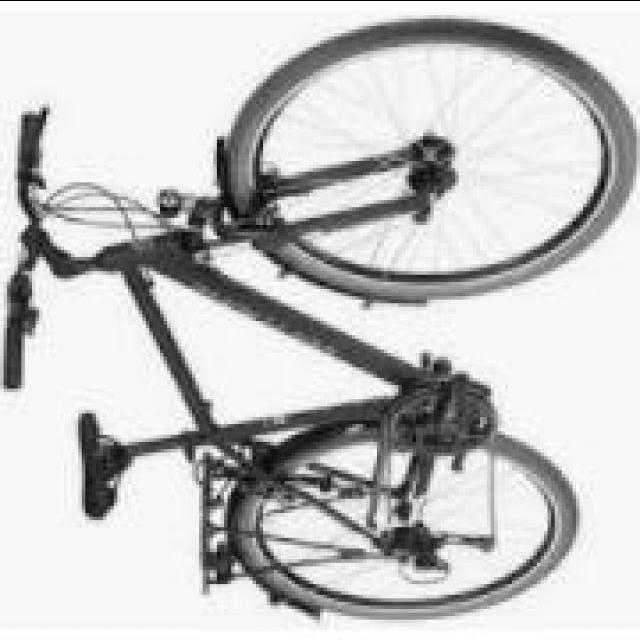bicycle: (26, 15, 634, 616)
